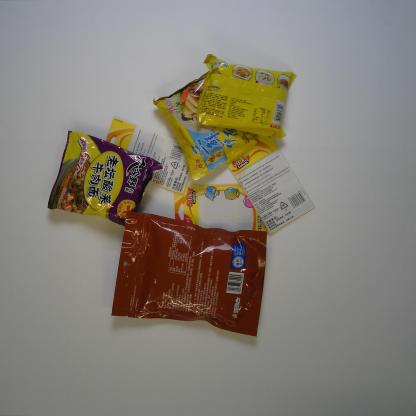Dried Food: (110, 209, 268, 338)
Instant Noodles: (151, 65, 258, 181), (46, 129, 163, 229), (197, 54, 299, 140)
Stationery: (226, 134, 316, 238), (101, 118, 199, 196), (174, 182, 277, 240)
